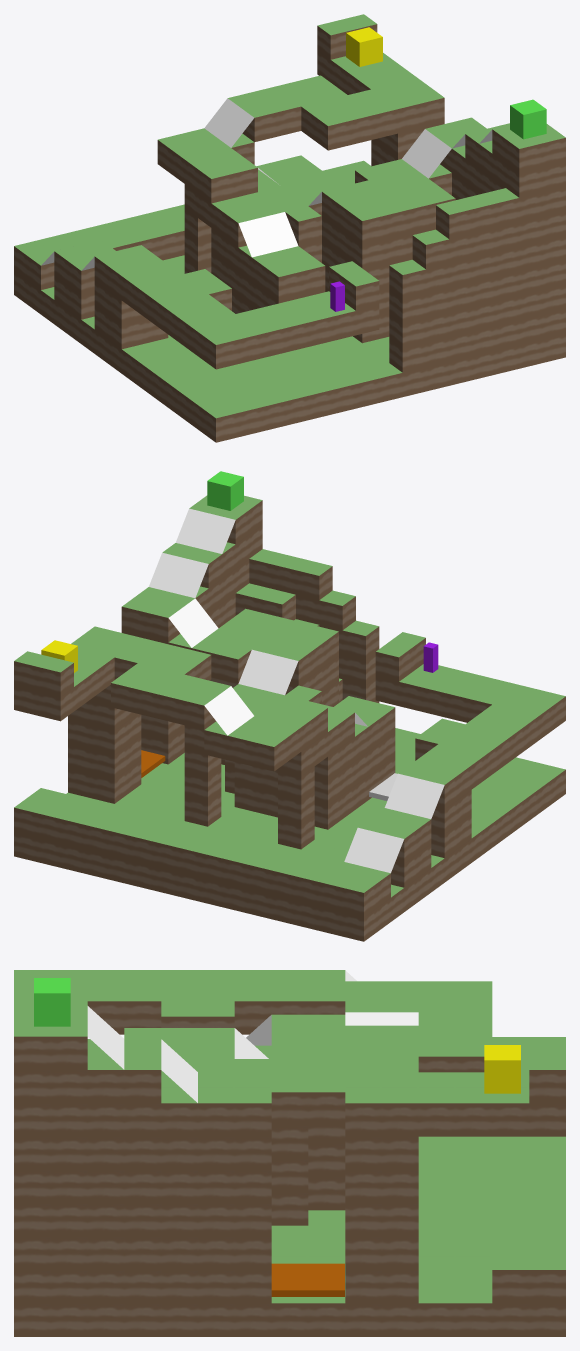
File: Stage_0307_v2.fbx
3 renders of one model, top to bottom at view 1: azimuth 30°, elevation 25°; view 2: azimuth 150°, elevation 25°; view 3: azimuth 270°, elevation 25°, orthographic. The views are drawn at different scales.
Visible parts, largest first — view 1: SandFloor_Clone__455, SandFloor_Clone__625, SandFloor_Clone__308, SandFloor_Clone__648, SandFloor_Clone__68, Key, SandFloor_Clone__453, SandFloor_Clone__458, Goal, SandFloor_Clone__324, SandFloor_Clone__551, SandFloor_Clone__321 (+120 smaller); view 2: SandFloor_Clone__259, SandFloor_Clone__322, SandFloor_Clone__458, Goal, SandFloor_Clone__511, SandFloor_Clone__633, SandFloor_Clone__453, SandFloor_Clone__455, SandFloor_Clone__607, SandFloor_Clone__541, SandFloor_Clone__637, SandFloor_Clone__561 (+121 smaller); view 3: Cube__1_, SandFloor_Clone__537, SandFloor_Clone__556, SandFloor_Clone__274, SandFloor_Clone__557, SandFloor_Clone__16, SandFloor_Clone__17, SandFloor_Clone__507, SandFloor_Clone__540, SandFloor_Clone__245, SandFloor_Clone__510, SandFloor_Clone__508 (+181 smaller).
Boxes of the visible parts, box(x1,y1,x2,y2) form: SandFloor_Clone__455: box(412, 229, 449, 269); SandFloor_Clone__625: box(348, 205, 385, 245); SandFloor_Clone__308: box(202, 329, 239, 369); SandFloor_Clone__648: box(314, 110, 351, 150); SandFloor_Clone__68: box(202, 403, 239, 442); Key: box(346, 27, 382, 66); SandFloor_Clone__453: box(436, 199, 472, 239); SandFloor_Clone__458: box(389, 259, 425, 299); Goal: box(510, 99, 546, 139); SandFloor_Clone__324: box(265, 261, 301, 301); SandFloor_Clone__551: box(198, 163, 234, 203); SandFloor_Clone__321: box(342, 271, 379, 310); SandFloor_Clone__259: box(340, 877, 377, 917); SandFloor_Clone__322: box(375, 642, 412, 681); SandFloor_Clone__458: box(342, 620, 379, 660); Goal: box(207, 471, 243, 510); SandFloor_Clone__511: box(37, 657, 73, 696); SandFloor_Clone__633: box(251, 731, 287, 771); SandFloor_Clone__453: box(296, 560, 332, 600); SandFloor_Clone__455: box(319, 590, 355, 630); SandFloor_Clone__607: box(215, 644, 251, 683); SandFloor_Clone__541: box(145, 602, 181, 642); SandFloor_Clone__637: box(181, 690, 217, 729); SandFloor_Clone__561: box(184, 793, 221, 826); Cube__1_: box(271, 1263, 344, 1296); SandFloor_Clone__537: box(124, 1054, 161, 1103); SandFloor_Clone__556: box(308, 1076, 345, 1125); SandFloor_Clone__274: box(492, 1254, 529, 1303); SandFloor_Clone__557: box(271, 1076, 308, 1125); SandFloor_Clone__16: box(455, 1288, 492, 1336); SandFloor_Clone__17: box(418, 1288, 455, 1336); SandFloor_Clone__507: box(418, 1088, 455, 1136); SandFloor_Clone__540: box(234, 1088, 271, 1136); SandFloor_Clone__245: box(529, 1254, 565, 1303); SandFloor_Clone__510: box(529, 1054, 565, 1103); SandFloor_Clone__508: box(455, 1088, 492, 1136).
Size of the model in its own units: 1500 by 1006 by 1500.
